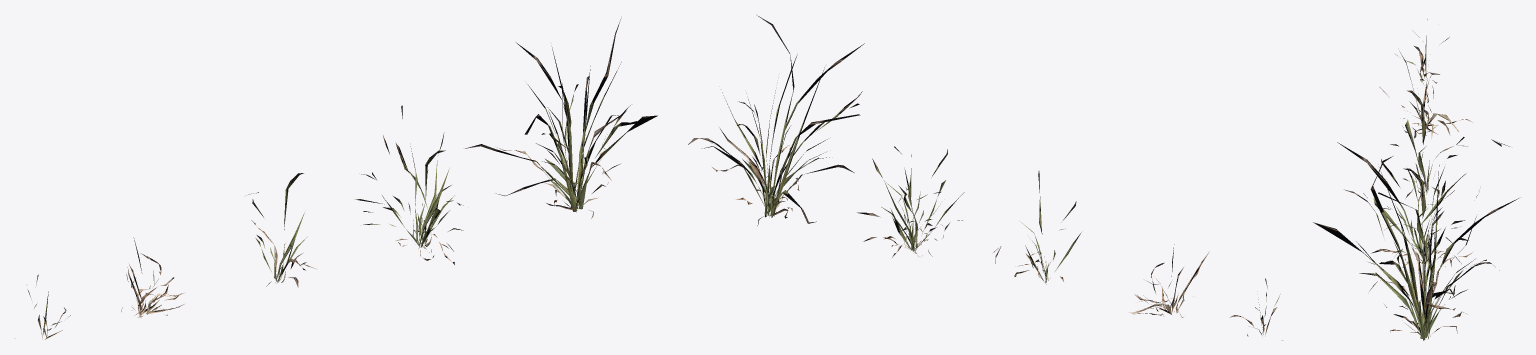
The model's file is grass_medium_02.glb.
3 renders of one model, left to right at view 1: azimuth 30°, elevation 25°; view 2: azimuth 150°, elevation 25°; view 3: azimuth 270°, elevation 25°, orthographic. The views are drawn at different scales.
Visible parts, largest first — view 1: Prop; view 2: Prop; view 3: Prop.
Part boxes in pixels (<box>): Prop: <box>27,18,657,339</box>; Prop: <box>688,15,1282,340</box>; Prop: <box>1313,19,1518,340</box>.
Bounding box in the file's own units: 1.29 × 0.4029 × 0.3827.
1 material, 1 textured.
